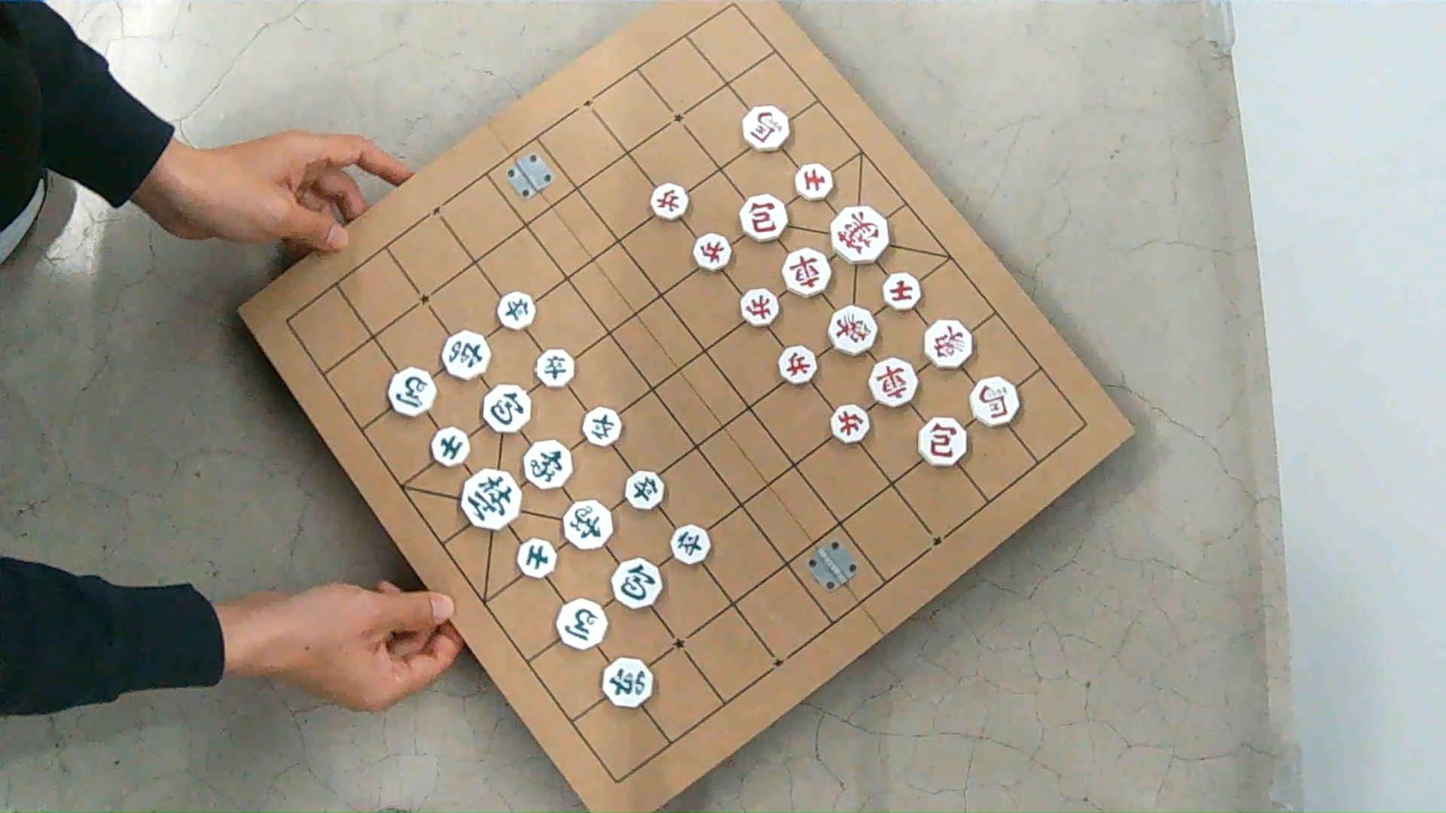cha_green: (602, 657, 654, 708), (441, 330, 492, 380)
cha_red: (782, 248, 831, 297), (868, 358, 917, 407)
jol_green: (583, 406, 622, 446), (496, 291, 535, 330), (625, 471, 664, 510), (671, 525, 710, 564), (535, 349, 574, 387)
jol_red: (777, 346, 817, 385), (830, 404, 869, 443), (740, 288, 779, 326), (650, 183, 689, 221), (693, 233, 731, 270)
ma_green: (556, 598, 606, 649), (387, 367, 436, 417)
ma_red: (969, 377, 1019, 426), (741, 105, 789, 151)
po_green: (612, 558, 664, 610), (482, 383, 531, 433)
po_red: (918, 416, 968, 467), (739, 193, 789, 242)
sa_green: (517, 538, 556, 578), (431, 427, 468, 467)
sa_red: (793, 163, 834, 200), (882, 273, 921, 310)
sang_green: (563, 500, 612, 550), (523, 440, 572, 489)
sang_red: (828, 306, 877, 356), (924, 319, 972, 369)
wang_green: (459, 468, 521, 531)
wang_red: (831, 206, 888, 263)
